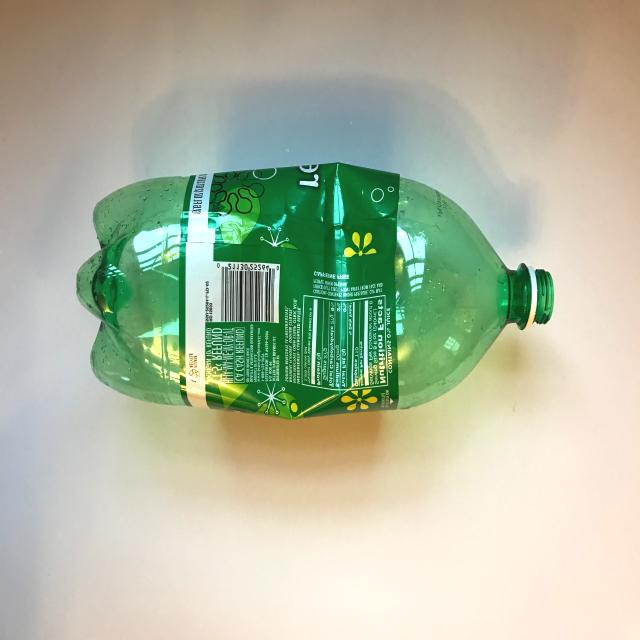Plastic: (38, 152, 572, 498)
